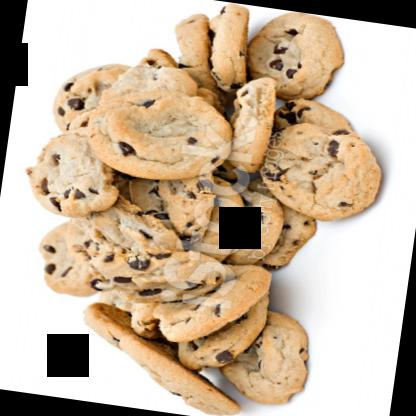cookie: (66, 301, 254, 415), (77, 84, 228, 188), (254, 117, 389, 225), (155, 252, 278, 351), (235, 5, 346, 104), (224, 302, 315, 408), (24, 127, 126, 218), (35, 213, 109, 295)
